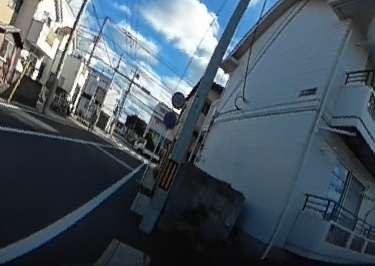person: (85, 98, 98, 128)
